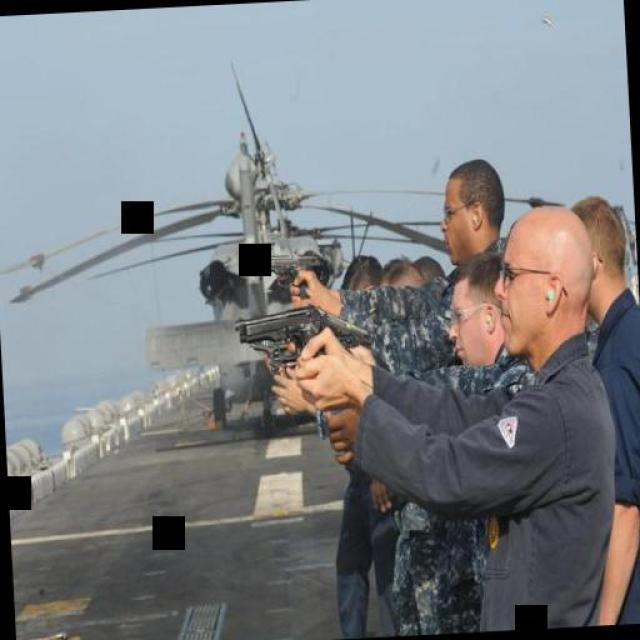gun: (232, 300, 328, 369), (249, 242, 325, 296), (319, 298, 376, 360)
